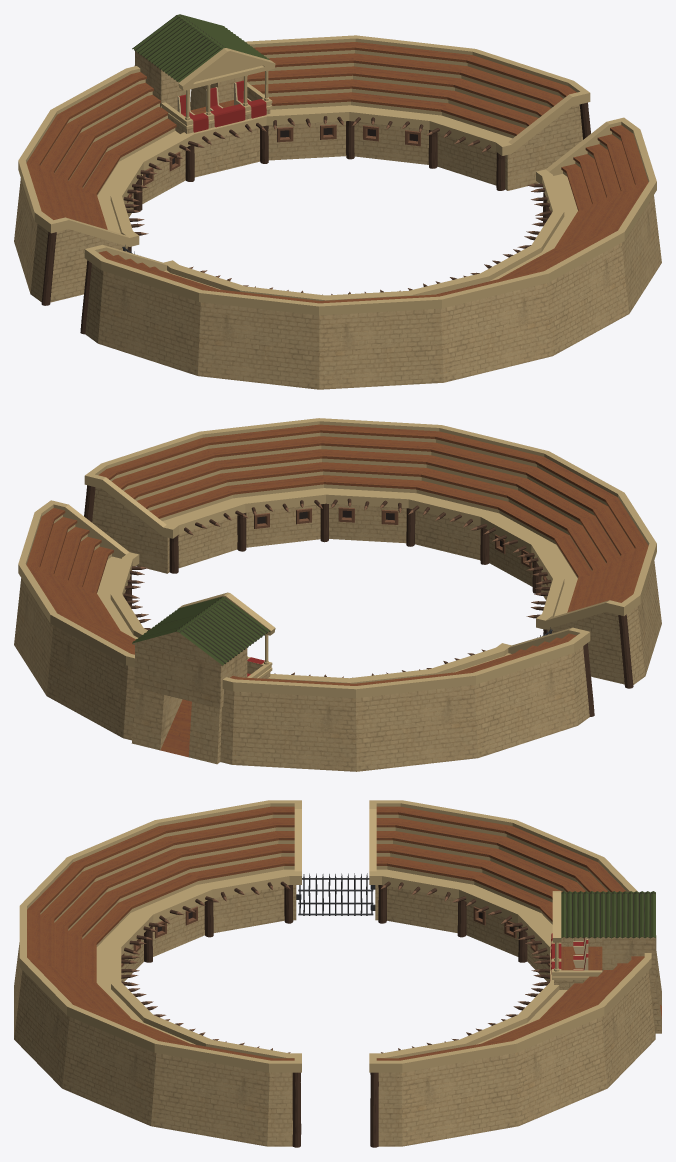
Rendered from Arena.fbx.
The picture shows the model from 3 angles, top to bottom: view 1: azimuth 30°, elevation 25°; view 2: azimuth 150°, elevation 25°; view 3: azimuth 270°, elevation 25°; orthographic projection.
Visible parts, largest first — view 1: Arena1; view 2: Arena1; view 3: Arena1, Gates.
Part boxes in pixels (x1,y1,x2,y2): Arena1: (14, 14, 661, 389); Arena1: (14, 418, 661, 771); Arena1: (14, 800, 661, 1147); Gates: (298, 873, 373, 915).
Bounding box in the file's own units: 6873 × 1442 × 6981.
Materials: 2 (2 with a texture image).
